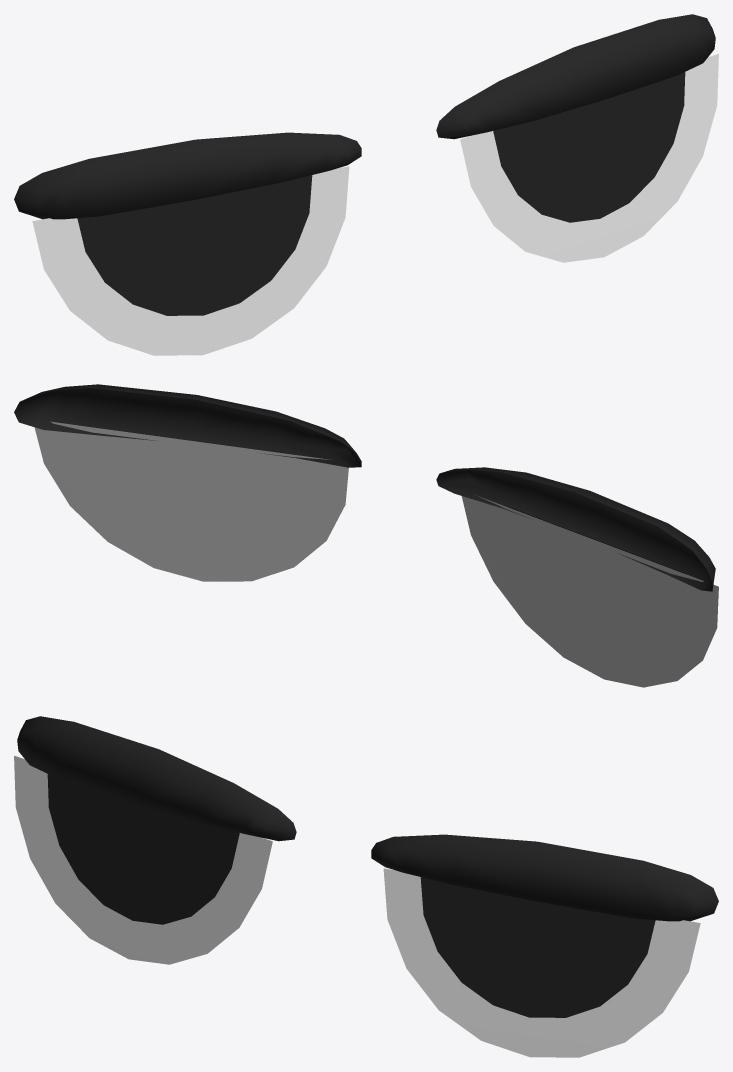
The model's file is eye_4.fbx.
3 views of the same model, one above another, from view 1: azimuth 30°, elevation 25°; view 2: azimuth 150°, elevation 25°; view 3: azimuth 330°, elevation 25° (orthographic).
Visible parts, largest first — view 1: eye_4; view 2: eye_4; view 3: eye_4.
Boxes of the visible parts, left/top/right/bottom form: eye_4: left=14, top=14, right=718, bottom=355; eye_4: left=14, top=384, right=718, bottom=687; eye_4: left=14, top=716, right=718, bottom=1057.
Bounding box in the file's own units: 1 × 0.273 × 0.1163.
